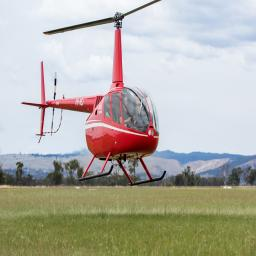helicopter: (22, 1, 169, 185)
